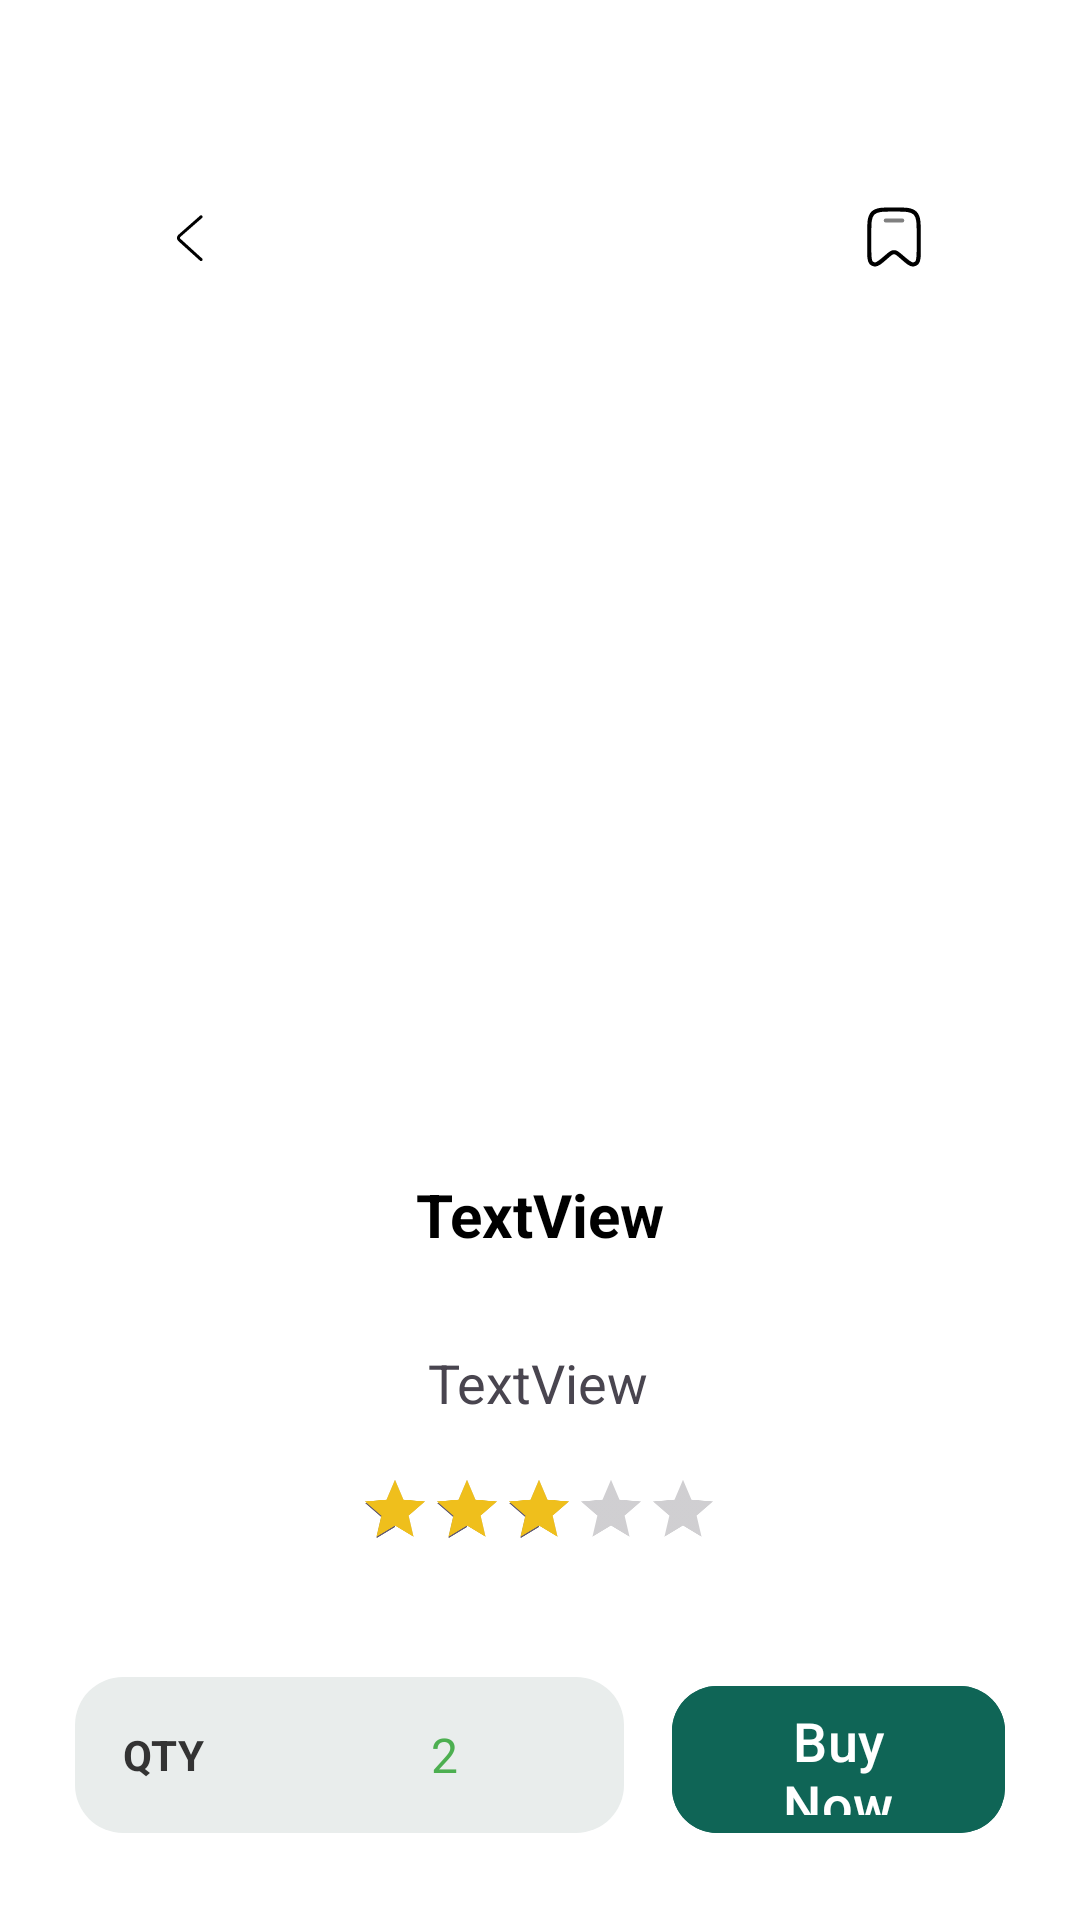

Screen size 1080x1920. Icon name, then its box in pixels as (x1, y1, x2, y2):
arrow back: (177, 215, 203, 261)
bookmark: (867, 207, 921, 267)
